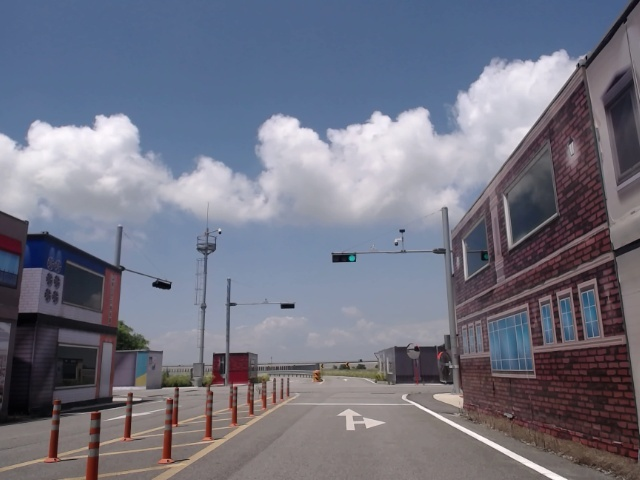green_3: (334, 254, 356, 264)
